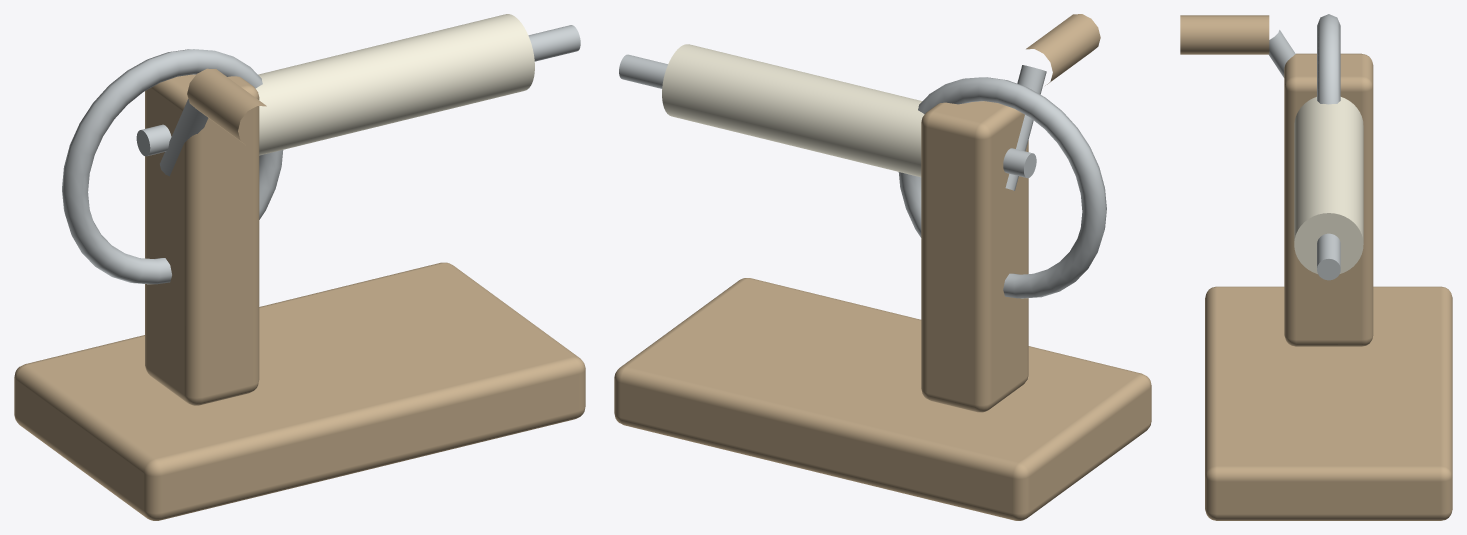
File: textile-weaving-and-dye-workshop-bobbin-winder-fd860663__29541.glb
3 renders of one model, left to right at view 1: azimuth 30°, elevation 25°; view 2: azimuth 150°, elevation 25°; view 3: azimuth 270°, elevation 25°, orthographic. The views are drawn at different scales.
Visible parts, largest first — view 1: bobbin-winder; view 2: bobbin-winder; view 3: bobbin-winder.
Part boxes in pixels (x1,y1,x2,y2): bobbin-winder: [14, 14, 585, 520]; bobbin-winder: [614, 14, 1151, 520]; bobbin-winder: [1180, 14, 1452, 520].
Bounding box in the file's own units: 0.522 × 0.4 × 0.275.
